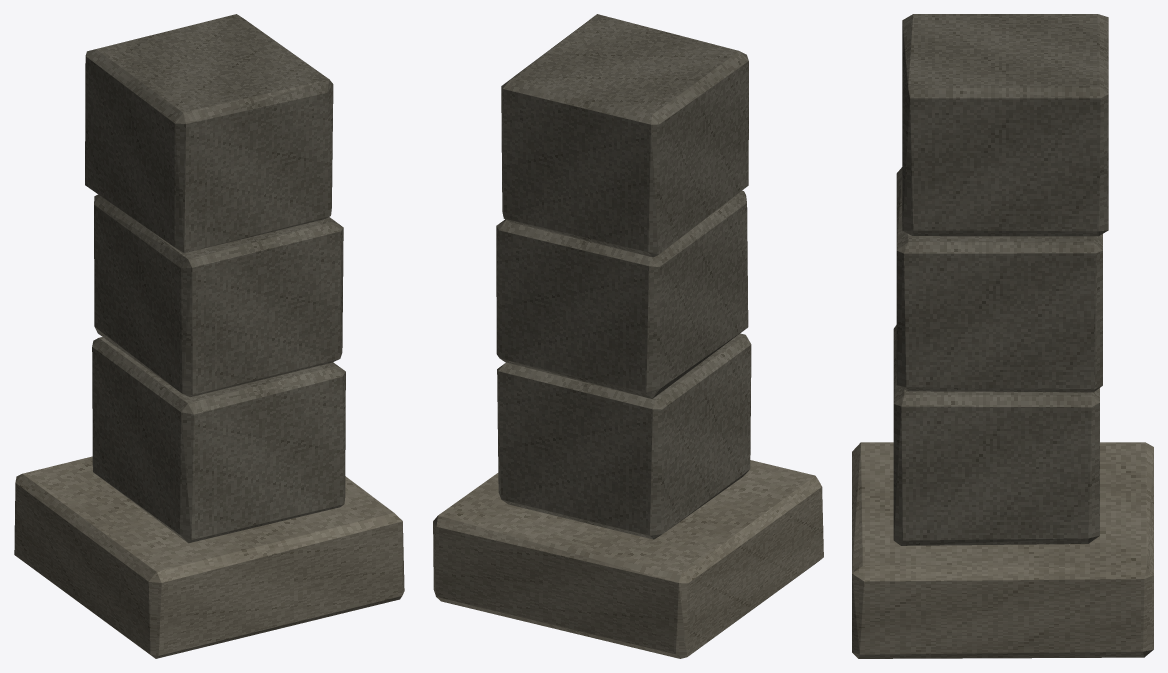
File: env_ruin_pillars_02_square_half.glb
The picture shows the model from 3 angles, left to right: view 1: azimuth 30°, elevation 25°; view 2: azimuth 150°, elevation 25°; view 3: azimuth 270°, elevation 25°; orthographic projection. The views are drawn at different scales.
Bounding box in the file's own units: 0.62 × 1.2 × 0.6.
1 material, 1 textured.
